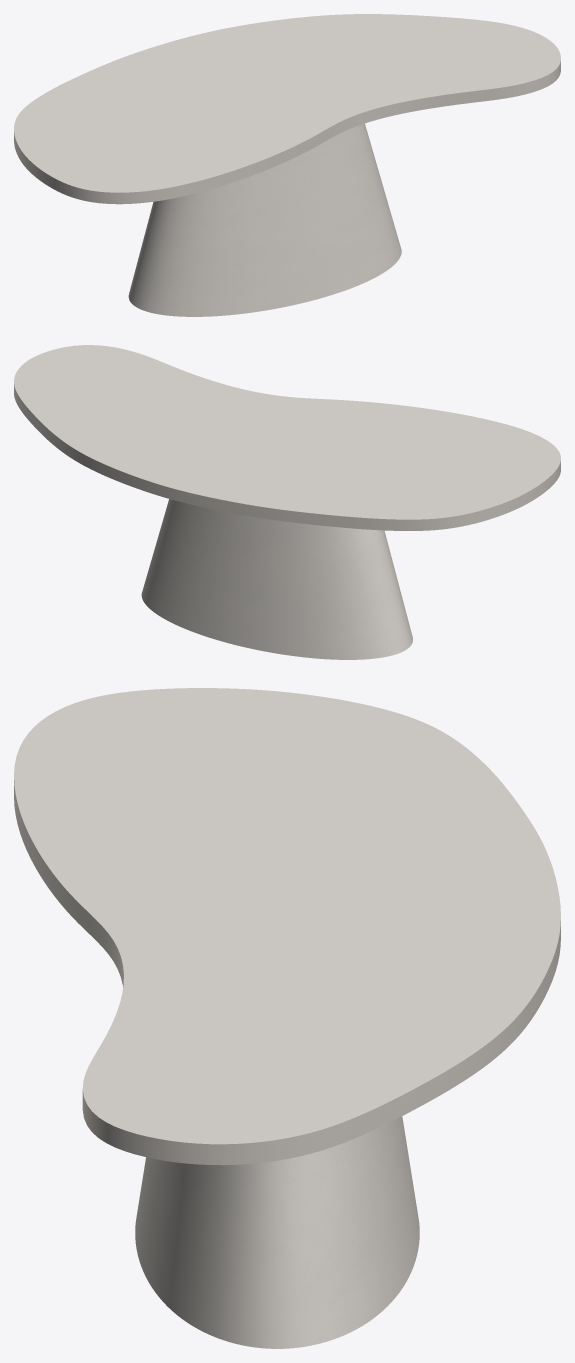
Rendered from pearlwhite_leaf1_standard_eqone.glb.
3 views of the same model, one above another, from view 1: azimuth 30°, elevation 25°; view 2: azimuth 150°, elevation 25°; view 3: azimuth 270°, elevation 25° (orthographic). The views are drawn at different scales.
Visible parts, largest first — view 1: standard_leaf1, eqone; view 2: standard_leaf1, eqone; view 3: standard_leaf1, eqone.
Part boxes in pixels (bbox=[...]): standard_leaf1: bbox=[14, 14, 560, 204]; eqone: bbox=[128, 123, 401, 316]; standard_leaf1: bbox=[14, 345, 560, 530]; eqone: bbox=[141, 499, 412, 659]; standard_leaf1: bbox=[14, 688, 560, 1165]; eqone: bbox=[135, 1116, 419, 1348].
Size of the model in its own units: 7.5 by 2.51 by 3.8.
Materials: 1 (1 with a texture image).
